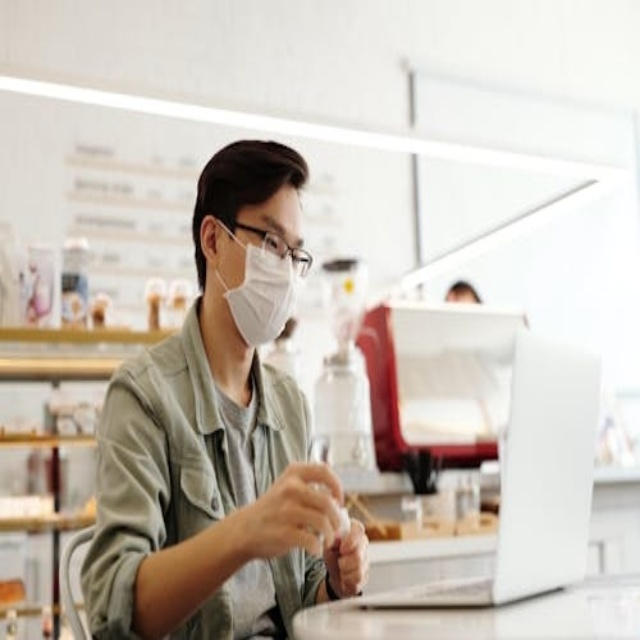Gafas: (225, 220, 313, 276)
Mascara: (214, 223, 298, 347)
Sin_guantes: (258, 461, 350, 561), (324, 519, 369, 598)
